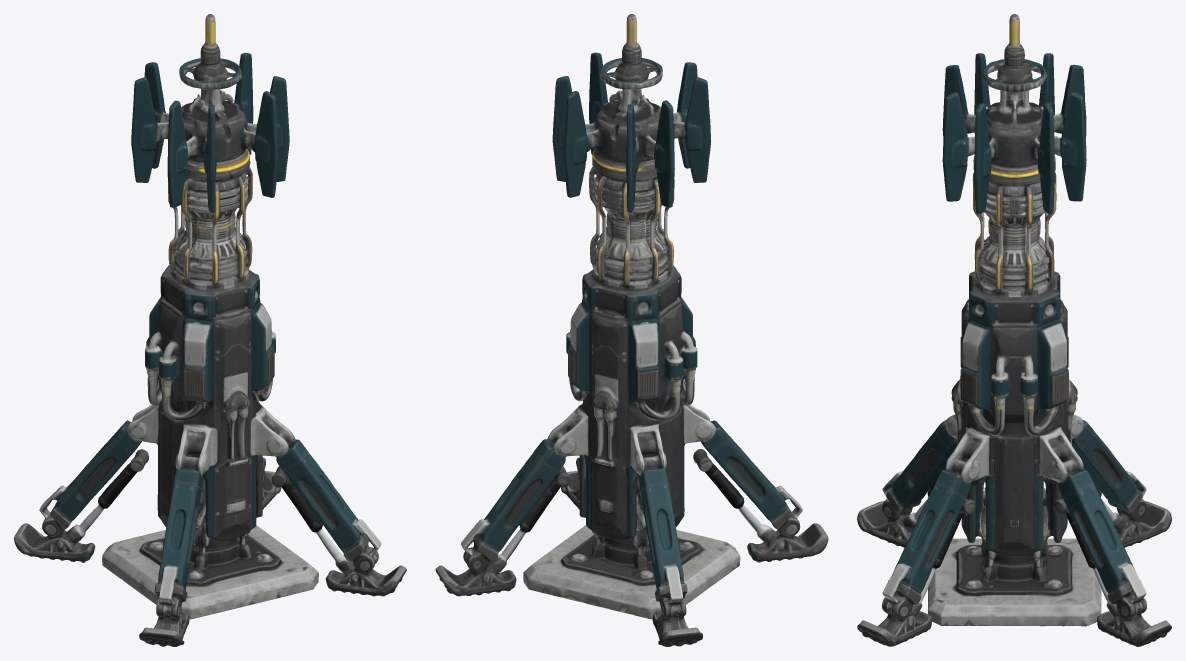
Rendered from signature_relay_beacon_spire.glb.
The picture shows the model from 3 angles, left to right: view 1: azimuth 30°, elevation 25°; view 2: azimuth 150°, elevation 25°; view 3: azimuth 270°, elevation 25°; orthographic projection. The views are drawn at different scales.
Size of the model in its own units: 0.9423 by 1.9 by 0.9418.
Materials: 1 (1 with a texture image).
